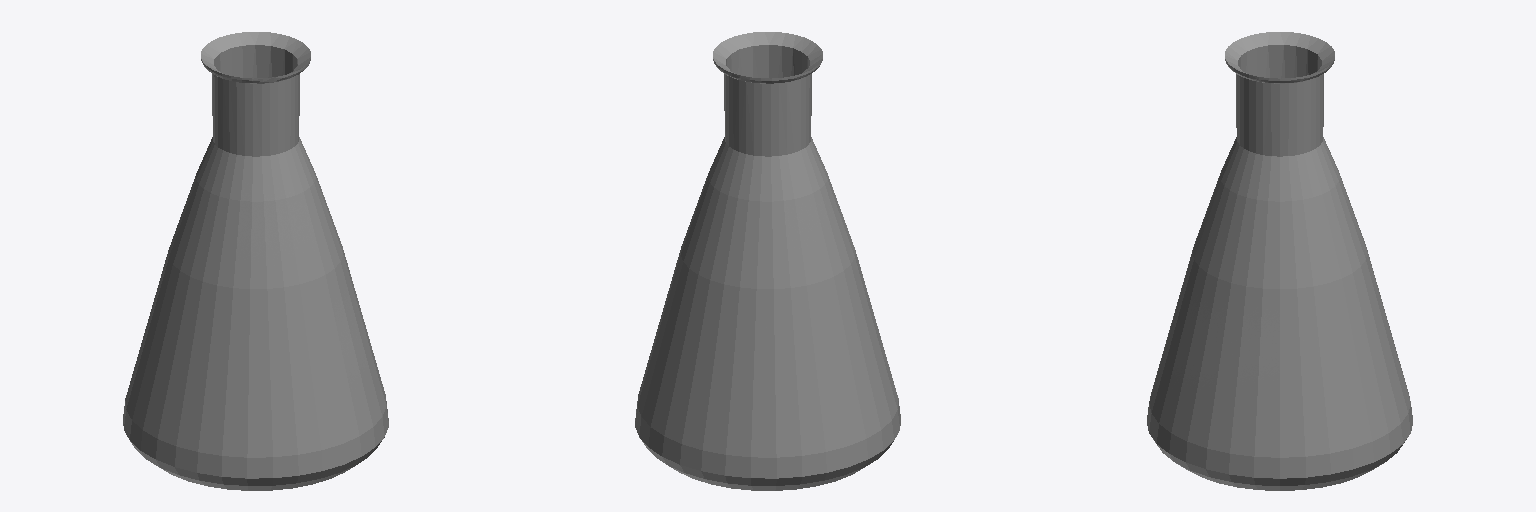
3 renders of one model, left to right at view 1: azimuth 30°, elevation 25°; view 2: azimuth 150°, elevation 25°; view 3: azimuth 270°, elevation 25°, orthographic.
Visible parts, largest first — view 1: Sphere; view 2: Sphere; view 3: Sphere.
Boxes of the visible parts, <box> form: Sphere: <box>123,32,388,490</box>; Sphere: <box>635,32,900,490</box>; Sphere: <box>1147,32,1412,490</box>.
Size of the model in its own units: 2.57 by 4.28 by 2.57.
Materials: 1 (1 with a texture image).